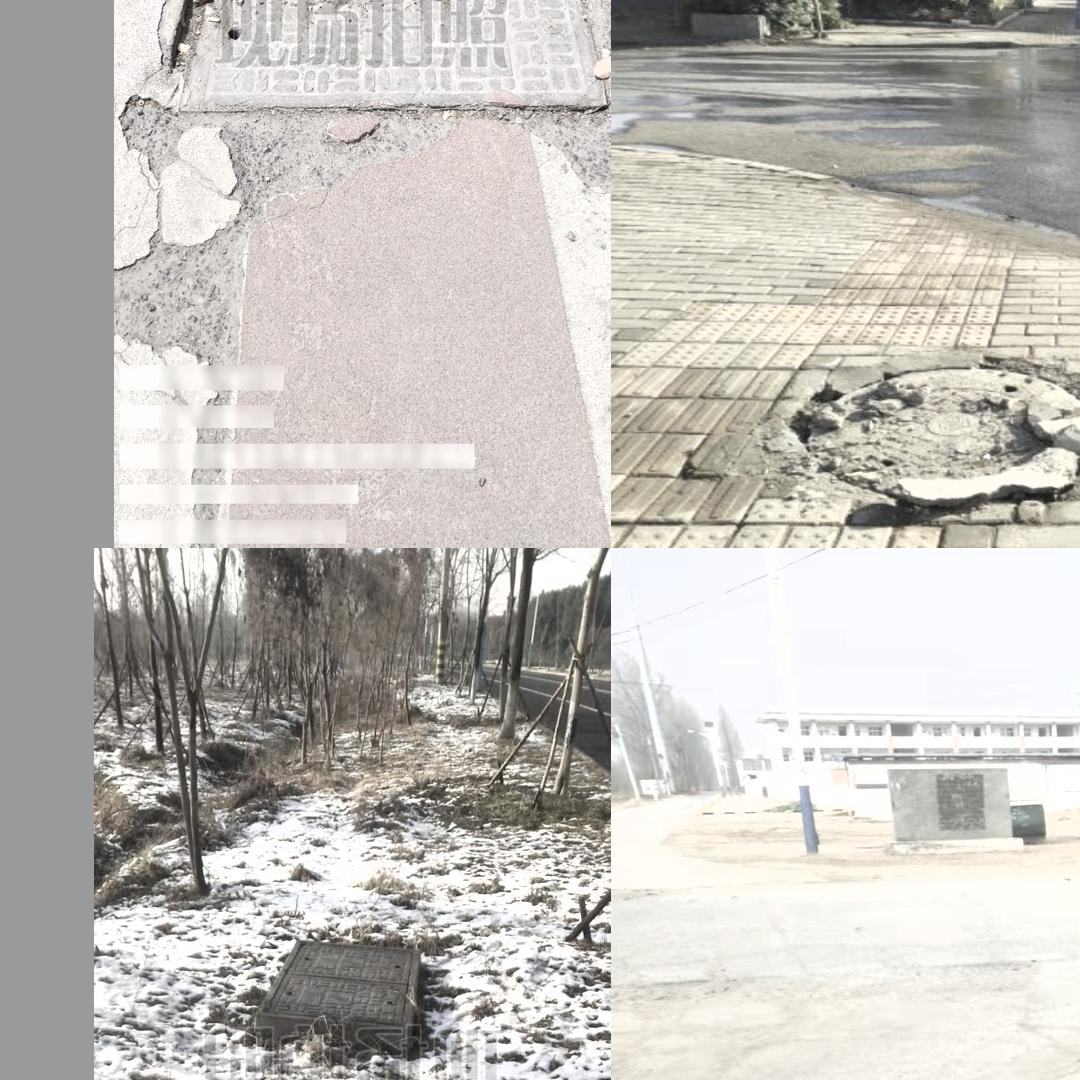circle: (750, 339, 1080, 513), (154, 0, 611, 122), (243, 939, 428, 1065)
